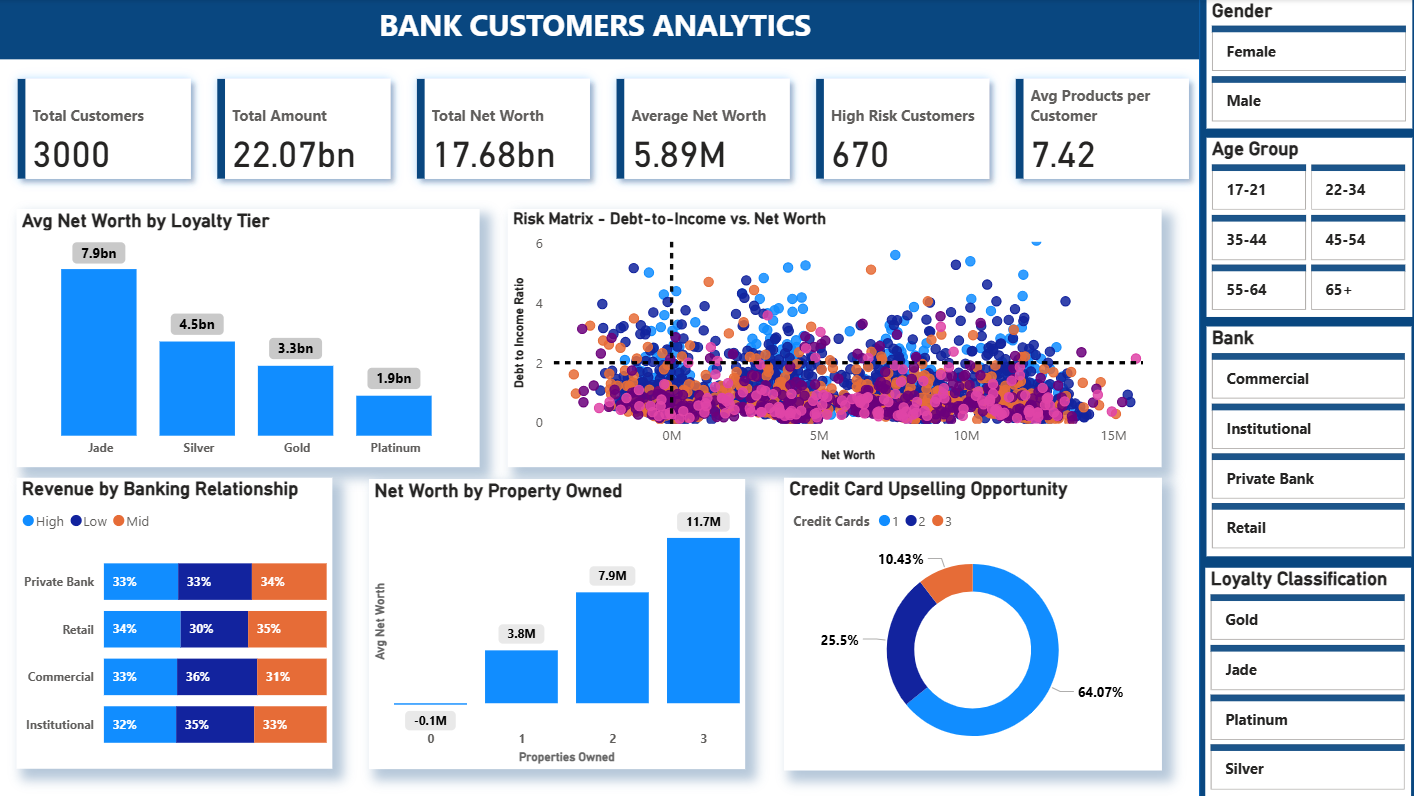

What the dashboard file says about the page in this screenshot:
{"tool":"powerbi","page":{"name":"EXECUTIVE OVERVIEW","canvas":[1280,720],"ordinal":0},"visuals":[{"type":"cardVisual","fields":{"Data":["CountNonNull(public clean_bank_customers.Client ID)","public clean_bank_customers.Total Amount","Sum(public clean_bank_customers.Net Worth)","Avg(public clean_bank_customers.Net Worth)","public clean_bank_customers.High Risk Customers","public clean_bank_customers.Avg Products"]},"box":[0,54.7,1091,124.4],"z":0},{"type":"shape","box":[1082.2,0,197.8,720.3],"z":1000},{"type":"advancedSlicerVisual","title":"Age Group","fields":{"Values":["public clean_bank_customers.Age Groups"]},"box":[1088.5,125.6,185.3,161.7],"z":2000},{"type":"advancedSlicerVisual","fields":{"Values":["public clean_bank_customers.Gender"]},"box":[1088.5,0,185.3,116.9],"z":3000},{"type":"advancedSlicerVisual","fields":{"Values":["public clean_bank_customers.Loyalty Classification"]},"box":[1087.7,512.8,186,207.4],"z":4000},{"type":"textbox","box":[0,0,1082.2,54.7],"z":5000},{"type":"lineClusteredColumnComboChart","title":"Avg Net Worth by Loyalty Tier ","fields":{"Category":["public clean_bank_customers.Loyalty Classification"],"Y":["Sum(public clean_bank_customers.Net Worth)"]},"box":[16.2,189.1,418,232.6],"z":6000},{"type":"scatterChart","title":"Risk Matrix - Debt-to-Income vs. Net Worth","fields":{"X":["public clean_bank_customers.Net Worth"],"Y":["public clean_bank_customers.Debt to Income Ratio"],"Series":["public clean_bank_customers.Risk Weighting"]},"box":[459,189.1,589.6,232.6],"z":8000},{"type":"hundredPercentStackedBarChart","title":"Revenue by Banking Relationship","fields":{"Category":["public clean_bank_customers.Banking Relationship"],"Y":["public clean_bank_customers.Revenue %"],"Series":["public clean_bank_customers.Fee Structure"]},"box":[16.3,431.4,284.9,262.8],"z":9000},{"type":"advancedSlicerVisual","title":"Bank","fields":{"Values":["public clean_bank_customers.Banking Relationship"]},"box":[1088.8,295.3,184.8,207.4],"z":10000},{"type":"clusteredColumnChart","title":"Net Worth by Property Owned","fields":{"Y":["public clean_bank_customers.Avg net worth(property owned)"],"Category":["public clean_bank_customers.Properties Owned"]},"box":[333.7,432.6,339.5,261.6],"z":10001},{"type":"donutChart","title":" Credit Card Upselling Opportunity","fields":{"Y":["public clean_bank_customers.Credit Card Distribution"],"Category":["public clean_bank_customers.Amount of Credit Cards"]},"box":[708.1,431.4,340.7,264],"z":10002}]}

Visuals, with their boxes in screenshot pixels (x1, y1, x2, y2), scaled from the page's 1280x720 canvas onto the 1414x796 screenshot:
cardVisual - CountNonNull(public clean_bank_customers.Client ID) x public clean_bank_customers.Total Amount: crop(0, 60, 1205, 198)
shape: crop(1195, 0, 1413, 795)
"Age Group" advancedSlicerVisual: crop(1202, 139, 1407, 318)
advancedSlicerVisual - public clean_bank_customers.Gender: crop(1202, 0, 1407, 129)
advancedSlicerVisual - public clean_bank_customers.Loyalty Classification: crop(1202, 567, 1407, 795)
textbox: crop(0, 0, 1195, 60)
"Avg Net Worth by Loyalty Tier " lineClusteredColumnComboChart: crop(18, 209, 480, 466)
"Risk Matrix - Debt-to-Income vs. Net Worth" scatterChart: crop(507, 209, 1158, 466)
"Revenue by Banking Relationship" hundredPercentStackedBarChart: crop(18, 477, 333, 767)
"Bank" advancedSlicerVisual: crop(1203, 326, 1407, 556)
"Net Worth by Property Owned" clusteredColumnChart: crop(369, 478, 744, 767)
" Credit Card Upselling Opportunity" donutChart: crop(782, 477, 1159, 769)
